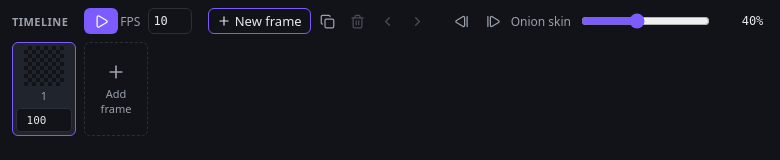
Test case: TimelinePanel › reorders the frame with Alt+arrows and with the move buttons
Click the button "New frame" at [259, 21], box [208,8,311,34]
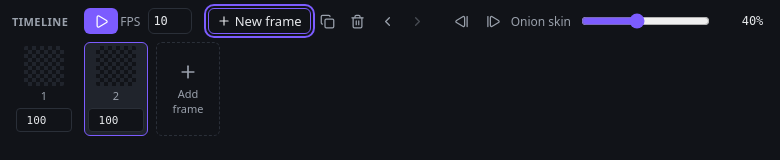
Click the button "New frame" at [259, 21], box [208,8,311,34]
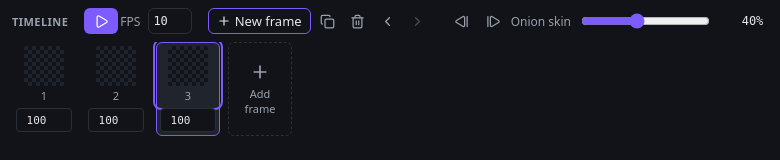
Check: the button named "Move frame later" is disabled, box [403,8,431,34]
Type keys "{Alt>}{ArrowLeft}{/Alt}"
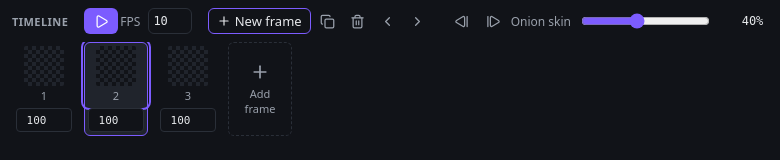
Click the button named "Move frame earlier" at [387, 21], box [373,8,401,34]
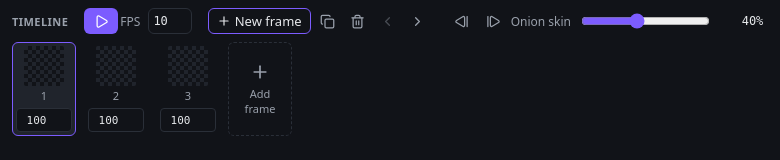
Check: the button named "Move frame earlier" is disabled, box [373,8,401,34]
